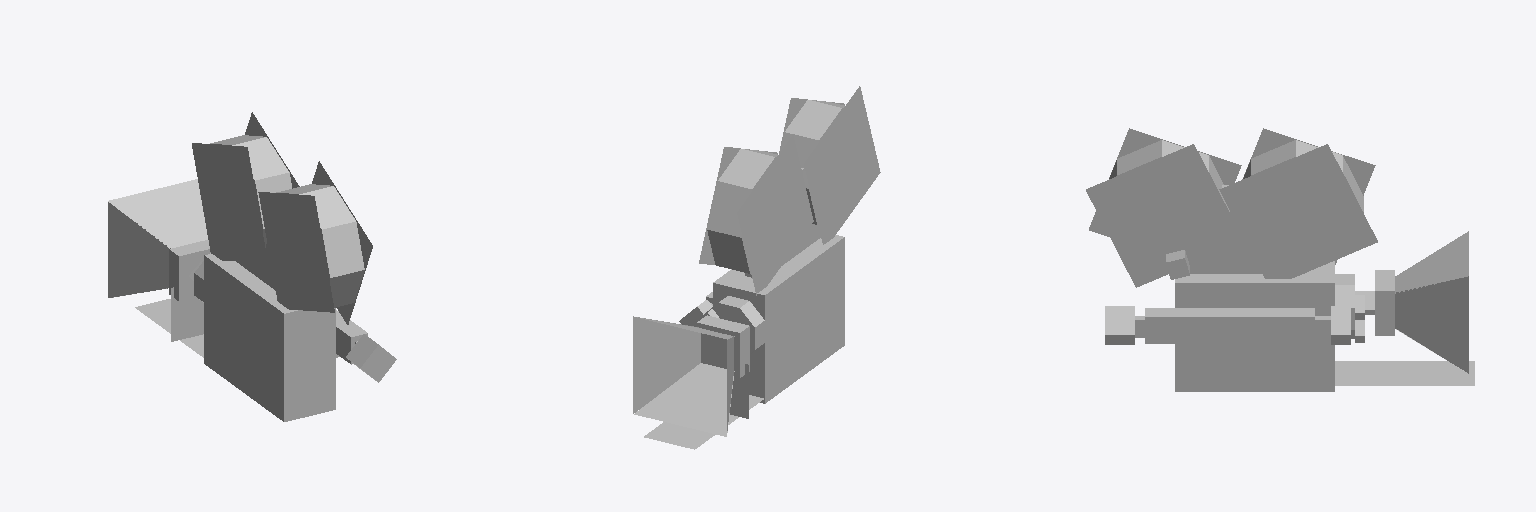
File: mt_moviecamera.obj
3 renders of one model, left to right at view 1: azimuth 30°, elevation 25°; view 2: azimuth 150°, elevation 25°; view 3: azimuth 270°, elevation 25°, orthographic.
Visible parts, largest first — view 1: cube, cube.011, cube.012, cube.021, cube.019, octagon.000, cube.018, cube.016, cube.004, octagon.001, octagon.005, cube.006 (+4 smaller); view 2: cube, cube.011, cube.012, cube.020, cube.017, cube.018, octagon.003, octagon.002, octagon.006, cube.006, octagon.004, cube.016 (+3 smaller); view 3: cube.010, cube, cube.009, cube.002, cube.020, cube.006, cube.019, cube.000, cube.003, cube.012, cube.018, cube.011 (+7 smaller).
Part boxes in pixels (x1,y1,x2,y2): cube: (204,254,335,421); cube.011: (192,143,267,263); cube.012: (258,192,334,312); cube.021: (108,202,170,297); cube.019: (108,179,207,248); octagon.000: (321,222,364,277); cube.018: (169,240,210,301); cube.016: (171,287,203,341); cube.004: (346,334,396,382); octagon.001: (299,186,355,230); octagon.005: (232,137,288,181); cube.006: (135,299,203,357); cube: (713,235,844,403); cube.011: (737,135,813,295); cube.012: (804,86,880,244); cube.020: (633,316,700,413); cube.017: (634,363,734,436); cube.018: (697,315,749,377); octagon.003: (707,181,752,237); octagon.002: (785,100,841,140); octagon.006: (718,149,775,189); cube.006: (644,395,763,449); octagon.004: (707,230,750,273); cube.016: (730,364,748,418); cube.010: (1219,144,1377,278); cube: (1175,261,1334,391); cube.009: (1086,144,1243,287); cube.002: (1185,308,1314,352); cube.020: (1395,276,1468,373); cube.006: (1335,361,1474,385); cube.019: (1395,231,1468,293); cube.000: (1190,185,1304,273); cube.003: (1145,308,1184,343); cube.012: (1089,128,1241,236); cube.018: (1375,270,1394,335); cube.011: (1242,128,1375,264).
Bounding box in the file's own units: 0.3882 × 0.8429 × 1.22.